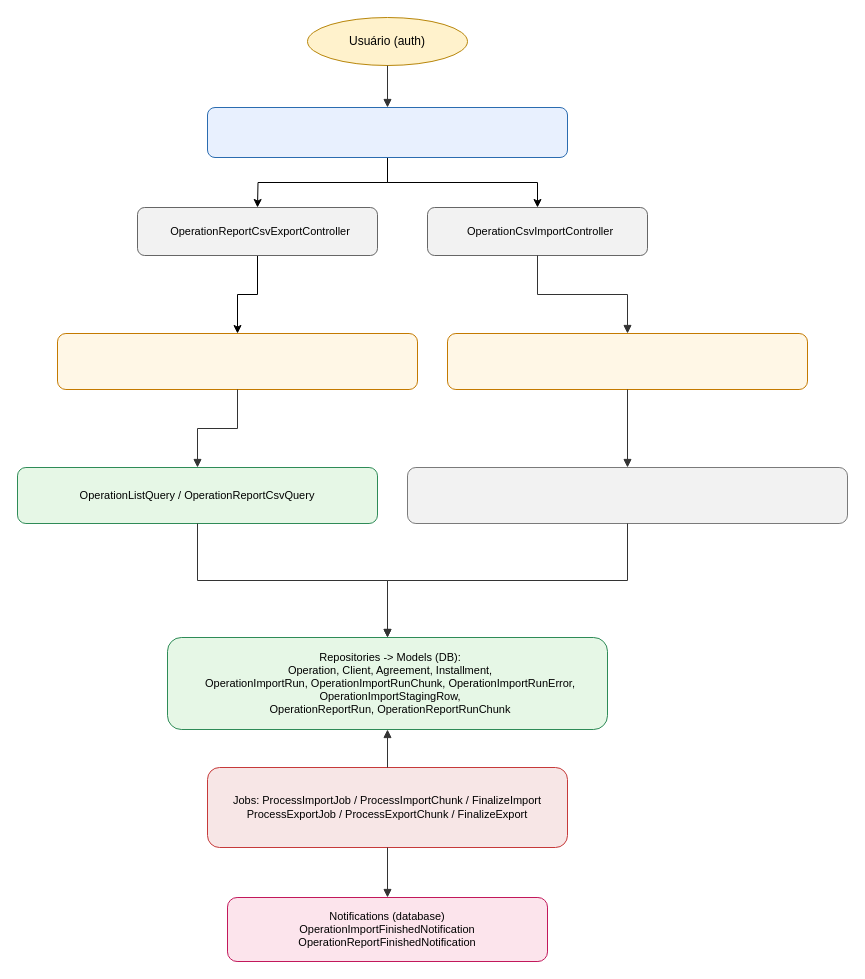
The diagram is 865 pixels wide and 979 high, and some of its shapes have lost their labels. The shapes that lost their labels are listed below. From the top down, each one's centre as x and y in pixels, then its label:
pixel 387 132: OperationListController (app/Http/Controllers)
pixel 237 361: OperationCsvReportGenerator (app/Infrastructure/Report)
pixel 627 361: OperationCsvImporter (app/Infrastructure/Import)
pixel 627 495: OperationImportRowPersister (app/Infrastructure/Import/Persistence)
